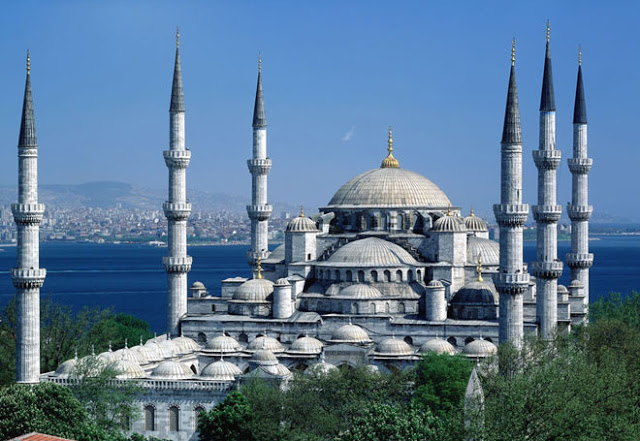Mosque: (8, 21, 590, 353)
